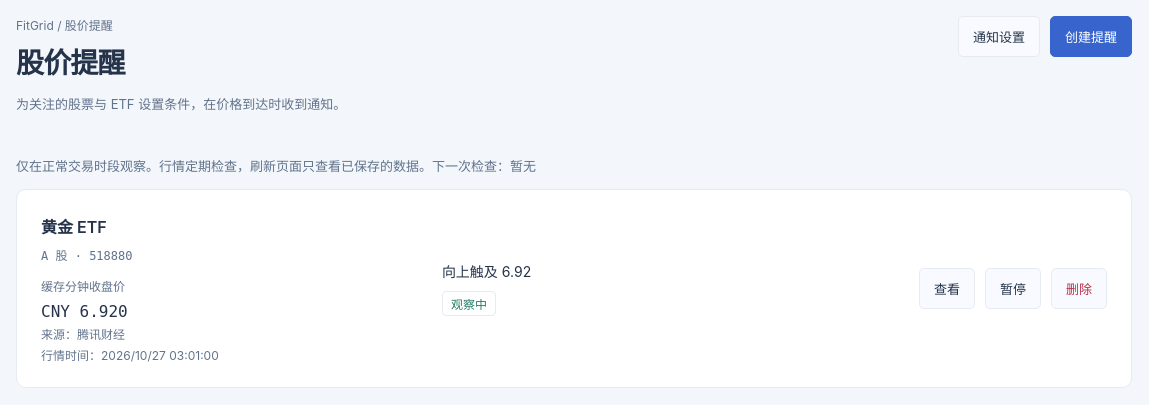
it: links to details and sends the displayed version when pausing
Click the button "暂停": (1013, 288) top-left (985, 268), bottom-right (1041, 309)
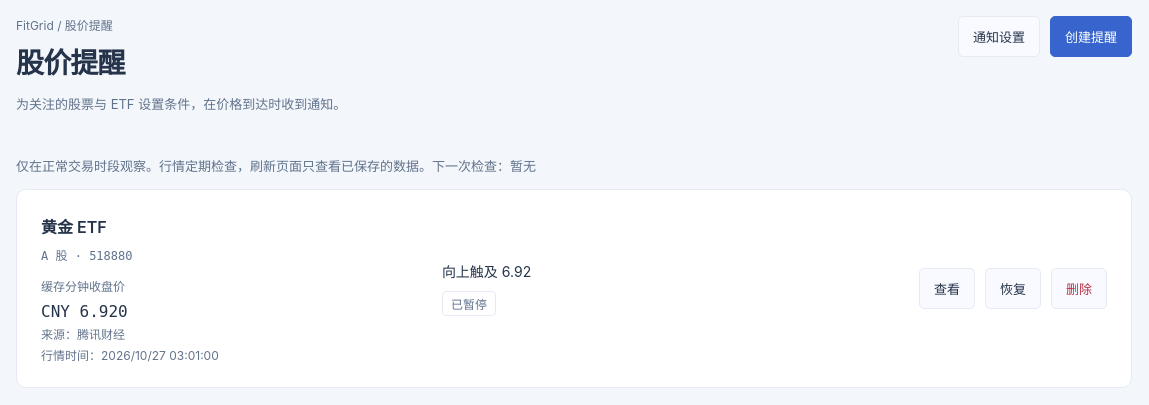
Check: the button "恢复" is shown, box top-left (985, 268), bottom-right (1041, 309)
